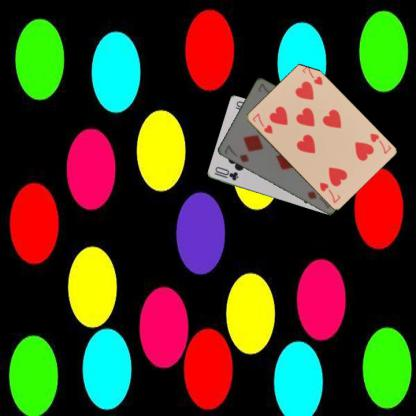10c: (211, 164, 240, 182)
7d: (221, 142, 250, 164)
7h: (249, 110, 274, 136), (368, 130, 392, 156)
